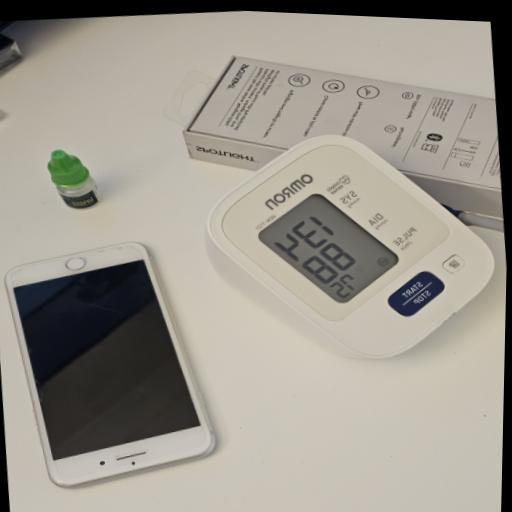blood pressure monitor: (190, 115, 508, 379)
